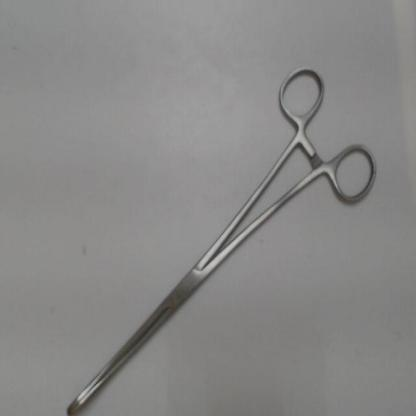Sponge Forceps: (57, 55, 384, 414)
